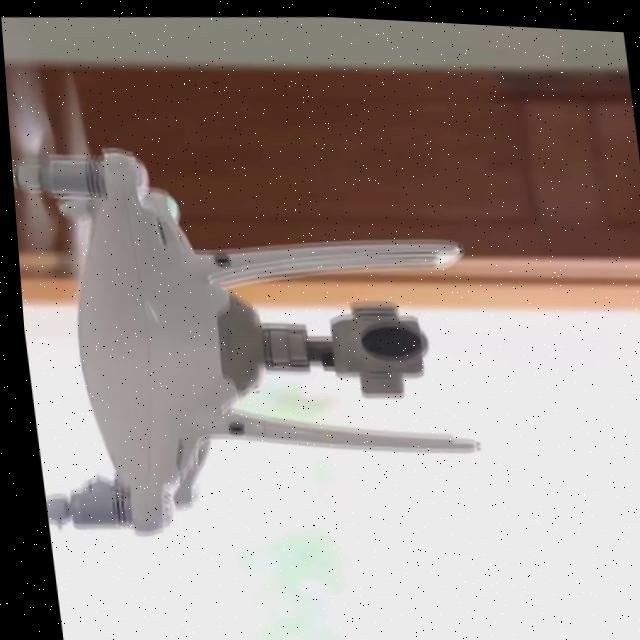drones: (1, 10, 515, 568)
